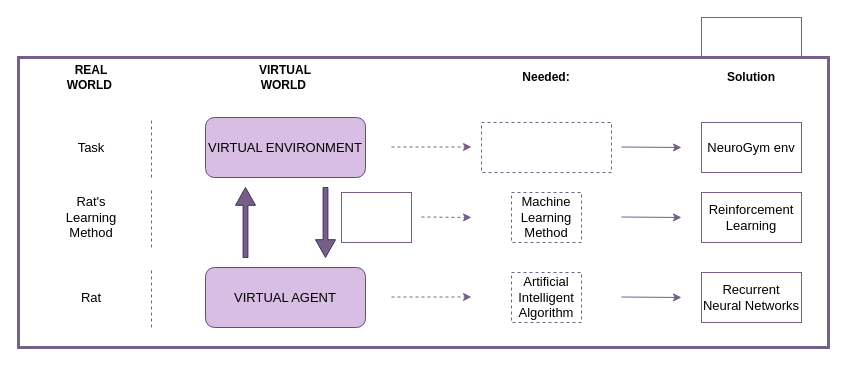
Image size: 847x366. Some labels were removed from this diagram. Each missing label, with the centre of its shape:
Computer-simulated task: the point at 546,147
Python: the point at 751,37
Training: the point at 376,217
